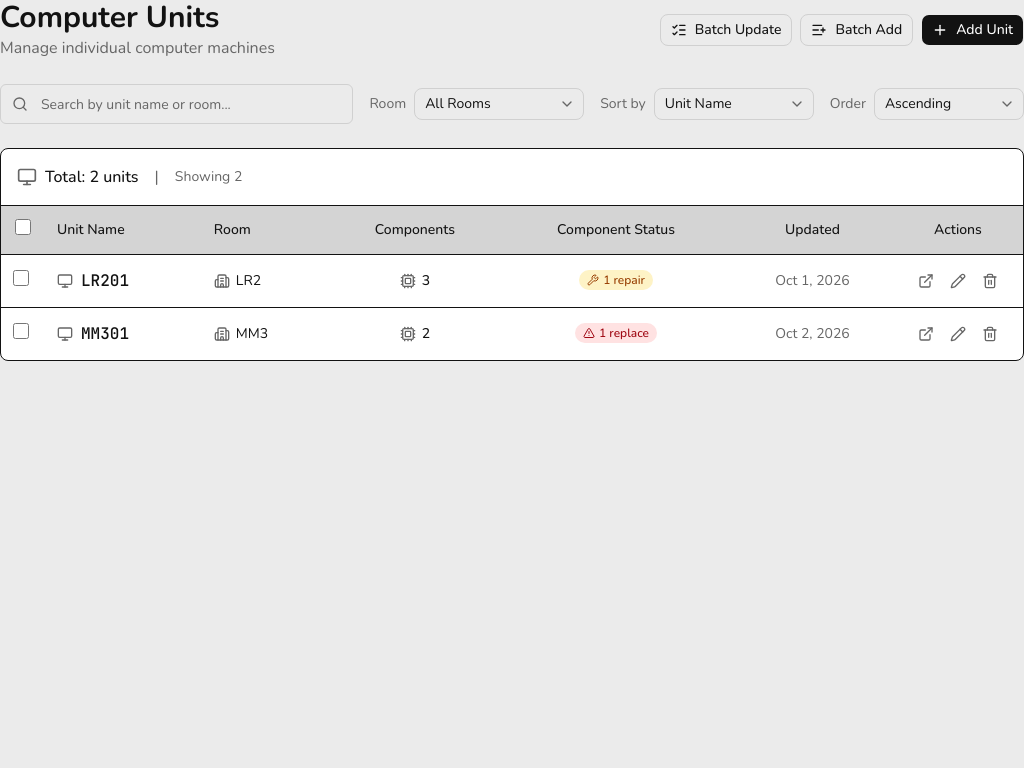
Test: UnitsClient batch delete › selects all filtered units and opens the batch delete confirmation
Click the checkbox named "select all filtered units".
click(23, 227)  # box x1=15 y1=219 x2=31 y2=235
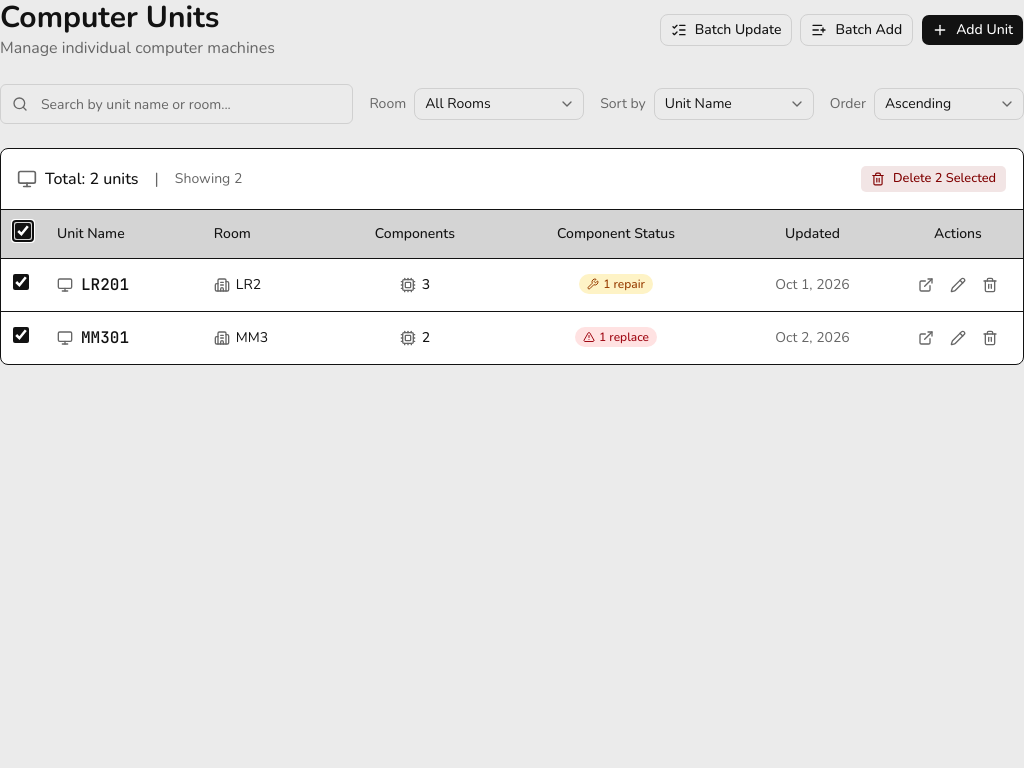
Expected: the button "Delete 2 Selected" is shown
Click the button "Delete 2 Selected".
click(934, 179)  # box x1=860 y1=165 x2=1007 y2=193
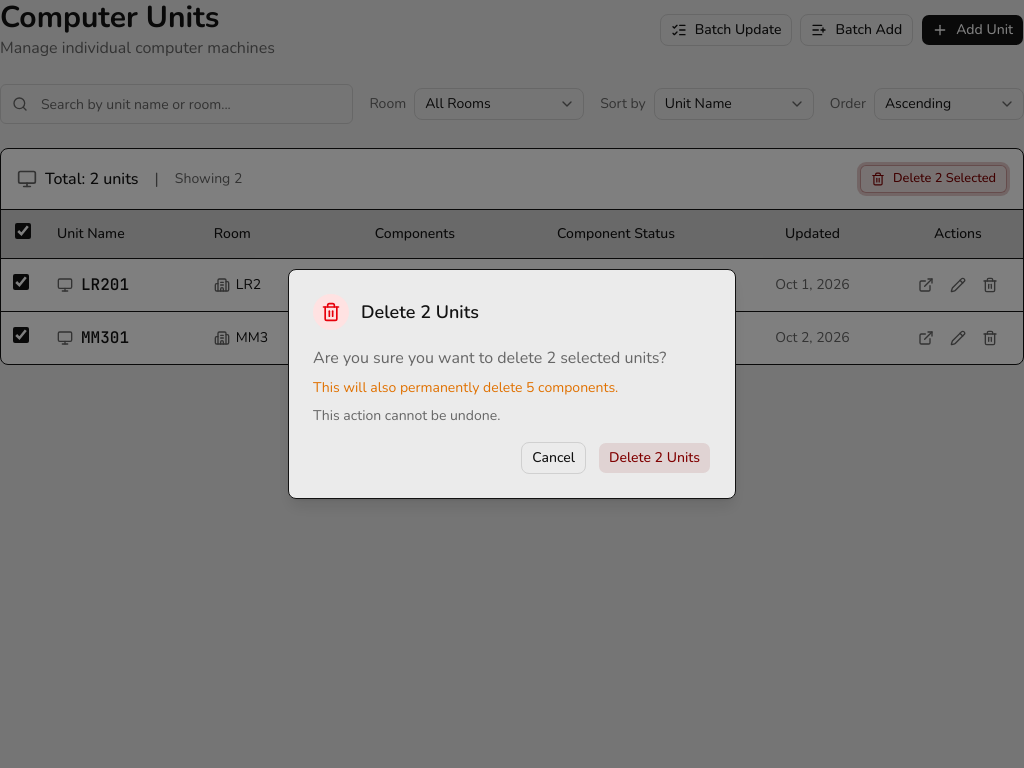
Expected: the heading "Delete 2 Units" is shown, x1=361 y1=298 x2=479 y2=326
Expected: the text "This will also permanently delete 5 components." is shown, x1=313 y1=378 x2=618 y2=397
